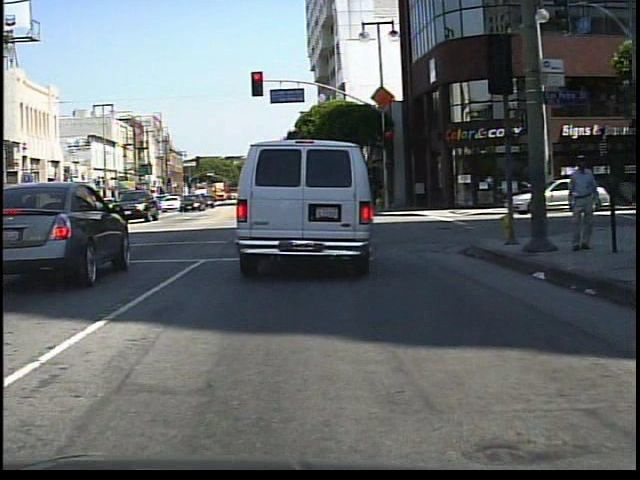person: (564, 151, 608, 256)
